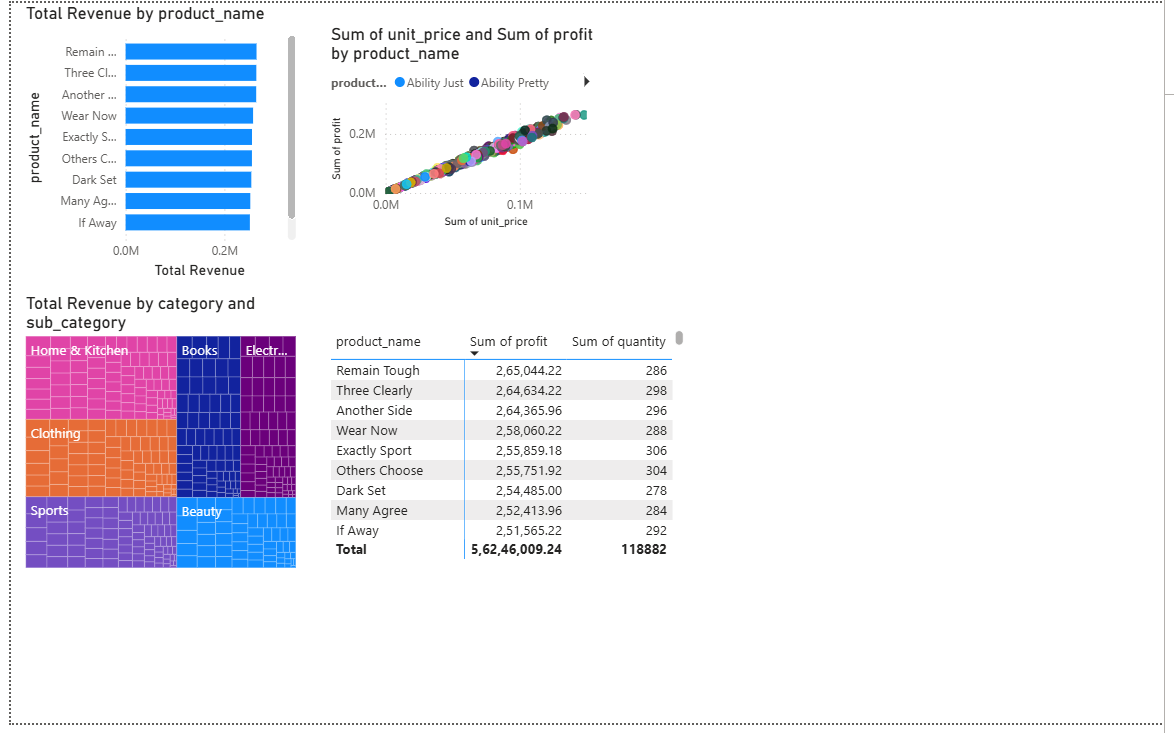

The page's visual inventory and layout, read from the dashboard file:
{"tool":"powerbi","page":{"name":"Page 2","canvas":[1280,720],"ordinal":1},"visuals":[{"type":"barChart","fields":{"Category":["warehouse dim_products.product_name"],"Y":["warehouse fact_sales.Total Revenue"]},"box":[10,0,280,280],"z":0},{"type":"treemap","fields":{"Group":["warehouse dim_products.category"],"Details":["warehouse dim_products.sub_category"],"Values":["warehouse fact_sales.Total Revenue"]},"box":[10,290,280,280],"z":1},{"type":"scatterChart","fields":{"X":["Sum(warehouse fact_sales.unit_price)"],"Y":["Sum(warehouse fact_sales.profit)"],"Series":["warehouse dim_products.product_name"]},"box":[315,21.2,280,208.8],"z":2},{"type":"pivotTable","fields":{"Rows":["warehouse dim_products.product_name"],"Values":["Sum(warehouse fact_sales.profit)","Sum(warehouse fact_sales.quantity)"]},"box":[315,322.5,362.5,238.8],"z":3}]}

Visuals, with their boxes on the page's 1280x720 design canvas (x1, y1, x2, y2). These are canvas units, not pixel positions in the 1174x733 screenshot, which may show the page scaled, cropped or inside an application window:
barChart - warehouse dim_products.product_name x warehouse fact_sales.Total Revenue: locate(10, 0, 290, 280)
treemap - warehouse dim_products.category x warehouse dim_products.sub_category: locate(10, 290, 290, 570)
scatterChart - Sum(warehouse fact_sales.unit_price) x Sum(warehouse fact_sales.profit): locate(315, 21, 595, 230)
pivotTable - warehouse dim_products.product_name x Sum(warehouse fact_sales.profit): locate(315, 322, 678, 561)
